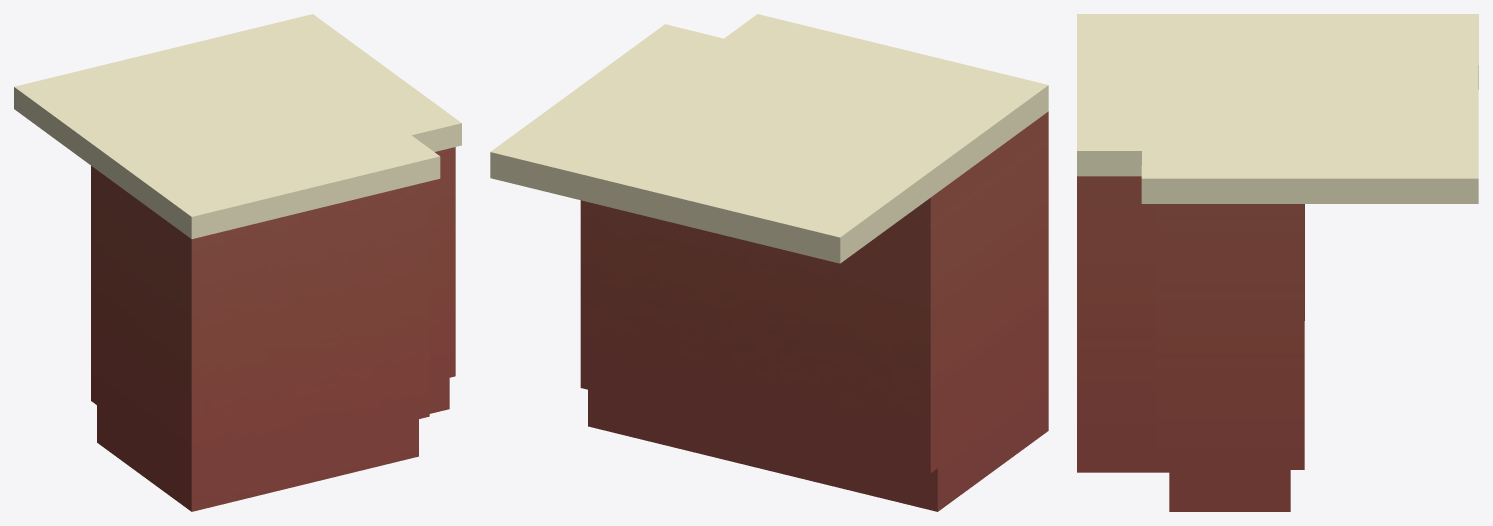
The model's file is SM_Cabinet_Corner_2_04.fbx.
3 views of the same model, side by side, from view 1: azimuth 30°, elevation 25°; view 2: azimuth 150°, elevation 25°; view 3: azimuth 270°, elevation 25° (orthographic). The views are drawn at different scales.
Parts seen in each view (by area): view 1: SM_Cabinet_Corner_2_04; view 2: SM_Cabinet_Corner_2_04; view 3: SM_Cabinet_Corner_2_04.
Part boxes in pixels (<box>): SM_Cabinet_Corner_2_04: <box>14,14,461,511</box>; SM_Cabinet_Corner_2_04: <box>490,14,1048,511</box>; SM_Cabinet_Corner_2_04: <box>1077,14,1478,511</box>.
Bounding box in the file's own units: 114 × 107 × 117.
